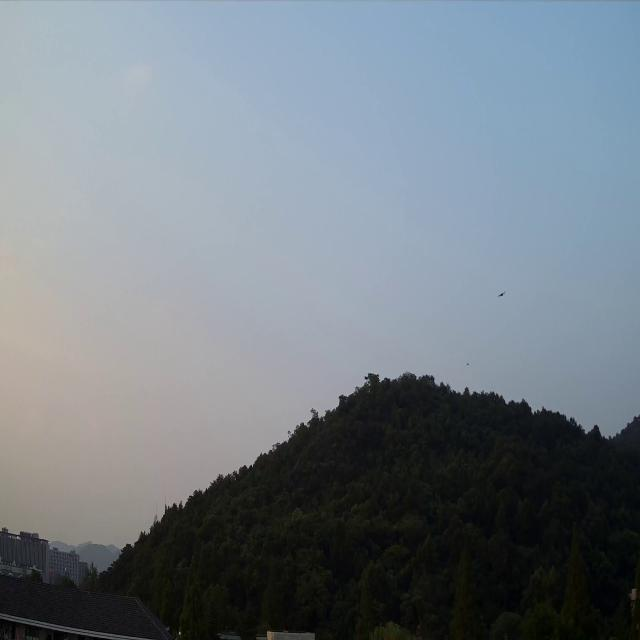UAV: (498, 289, 506, 299)
